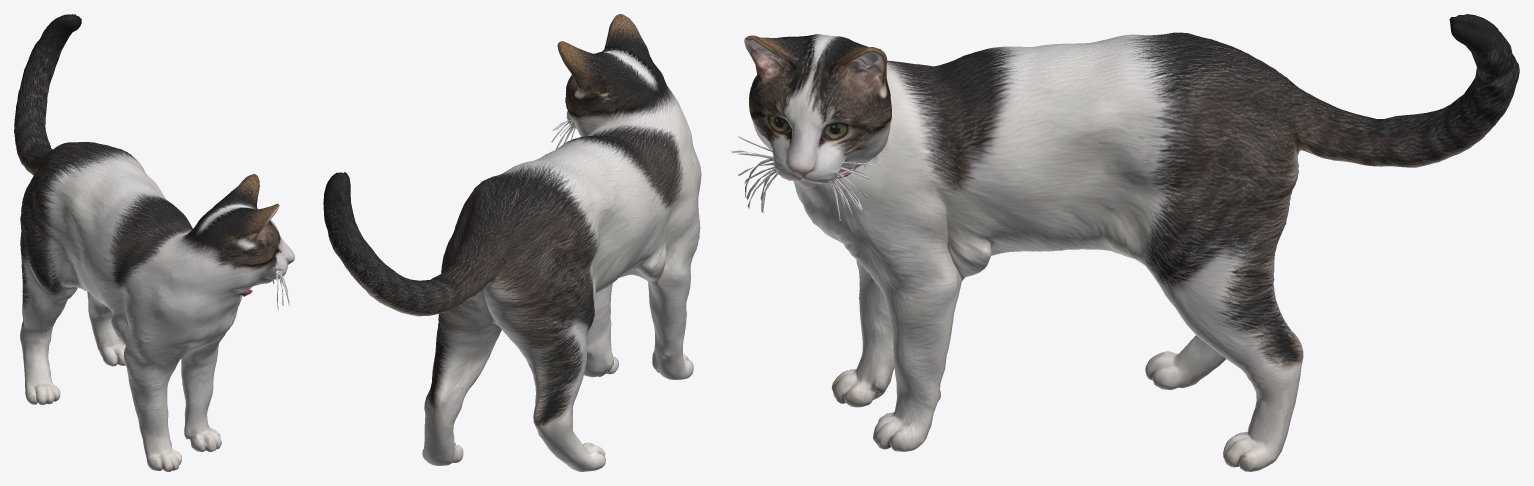
File: charlie.glb
3 renders of one model, left to right at view 1: azimuth 30°, elevation 25°; view 2: azimuth 150°, elevation 25°; view 3: azimuth 270°, elevation 25°, orthographic. The views are drawn at different scales.
Parts seen in each view (by area): view 1: tripo_node_b684fc9a-0c9f-469e-9aac-eb1408d4b61d; view 2: tripo_node_b684fc9a-0c9f-469e-9aac-eb1408d4b61d; view 3: tripo_node_b684fc9a-0c9f-469e-9aac-eb1408d4b61d.
Part boxes in pixels (left/top/right/bottom): tripo_node_b684fc9a-0c9f-469e-9aac-eb1408d4b61d: left=14, top=14, right=294, bottom=471; tripo_node_b684fc9a-0c9f-469e-9aac-eb1408d4b61d: left=323, top=14, right=701, bottom=471; tripo_node_b684fc9a-0c9f-469e-9aac-eb1408d4b61d: left=730, top=14, right=1519, bottom=471.
Size of the model in its own units: 0.1675 by 0.3131 by 0.4829.
1 material, 1 textured.
